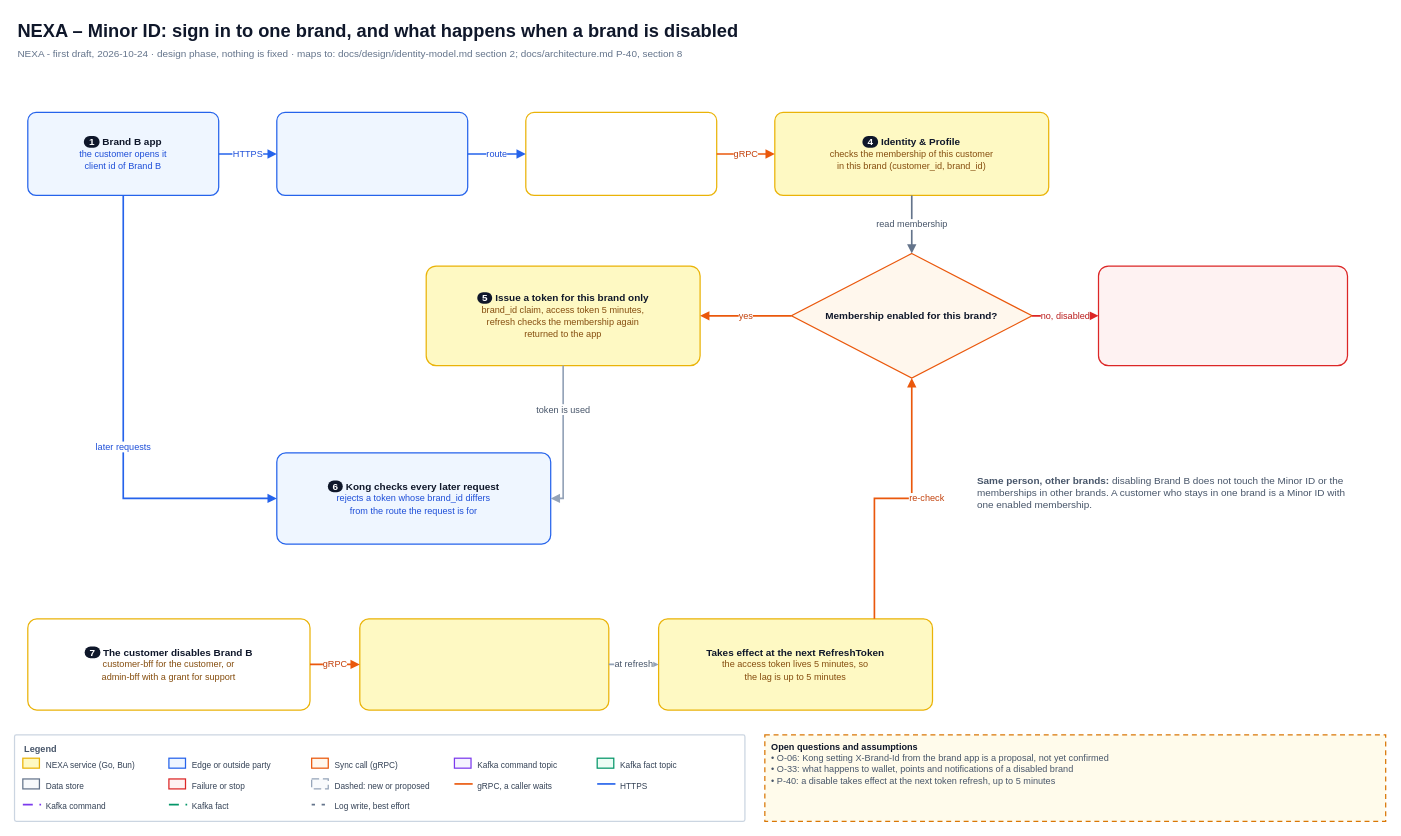
Some shapes in this 1401 by 836 pixel diagram are drawn without their labels. Here are the shapes that lost their labels. From the top down, the centre of each, then its label:
At pixel 372 153: "2 Kong sets X-Brand-Id from the brand app (host or client id) - proposed".
At pixel 621 153: "3 customer-bff StartSignIn, VerifyOtp, JoinBrand for a new brand".
At pixel 1223 315: "No token sign-in refused for this brand the data is kept, not usable".
At pixel 484 664: "Membership becomes disabled Identity writes the status no event is published".
